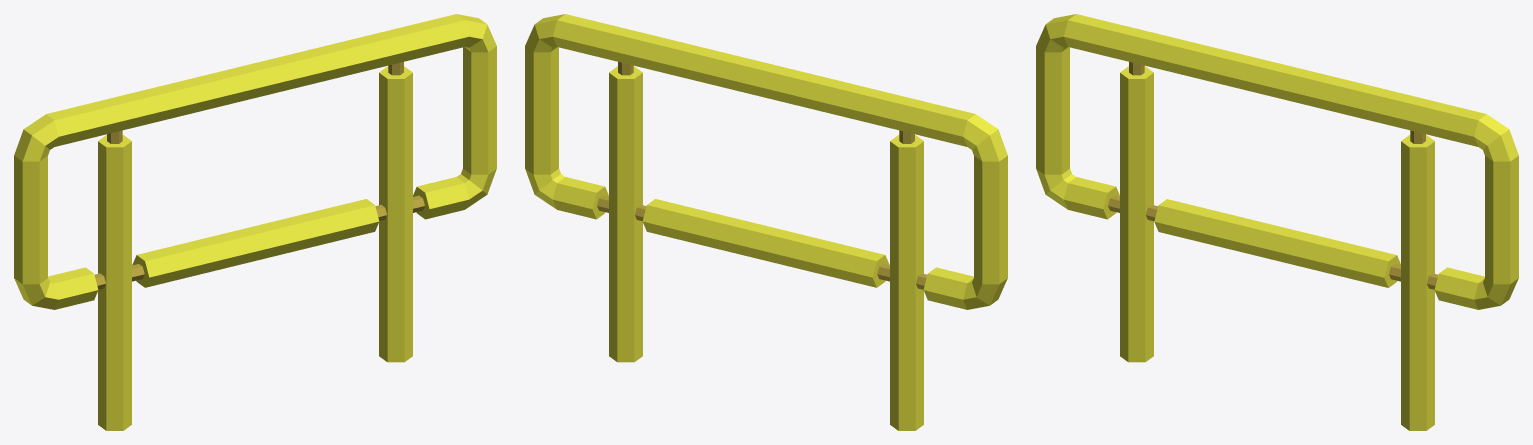
The model's file is BarriereSimple.fbx.
3 views of the same model, side by side, from view 1: azimuth 30°, elevation 25°; view 2: azimuth 150°, elevation 25°; view 3: azimuth 330°, elevation 25° (orthographic).
Visible parts, largest first — view 1: Cube.010; view 2: Cube.010; view 3: Cube.010.
Part boxes in pixels (<box>): Cube.010: <box>14,14,496,430</box>; Cube.010: <box>525,14,1007,430</box>; Cube.010: <box>1036,14,1518,430</box>.
Bounding box in the file's own units: 304 × 198 × 18.88.
